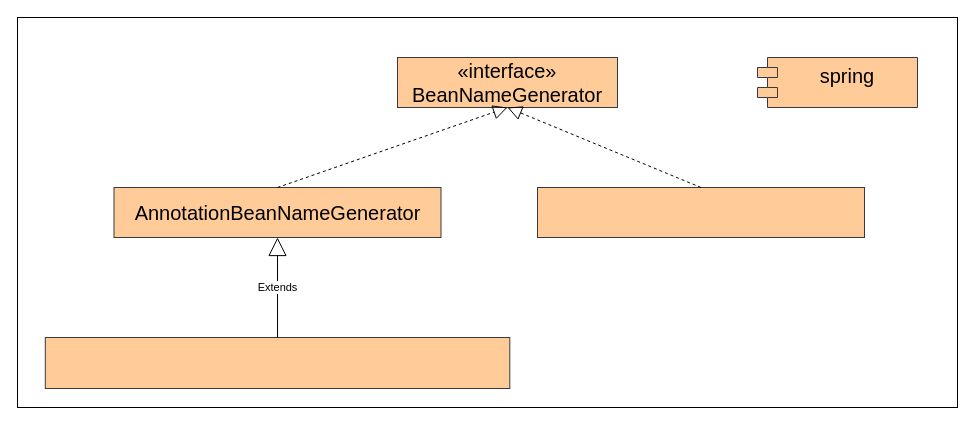
This 975x425 diagram has some shape labels left out. The shapes that lost their labels are listed below. From the top down, each one's centre as x and y in pixels, then its label:
At point (700, 212): "DefaultBeanNameGenerator".
At point (277, 362): "FullyQualifiedAnnotationBeanNameGenerator".
